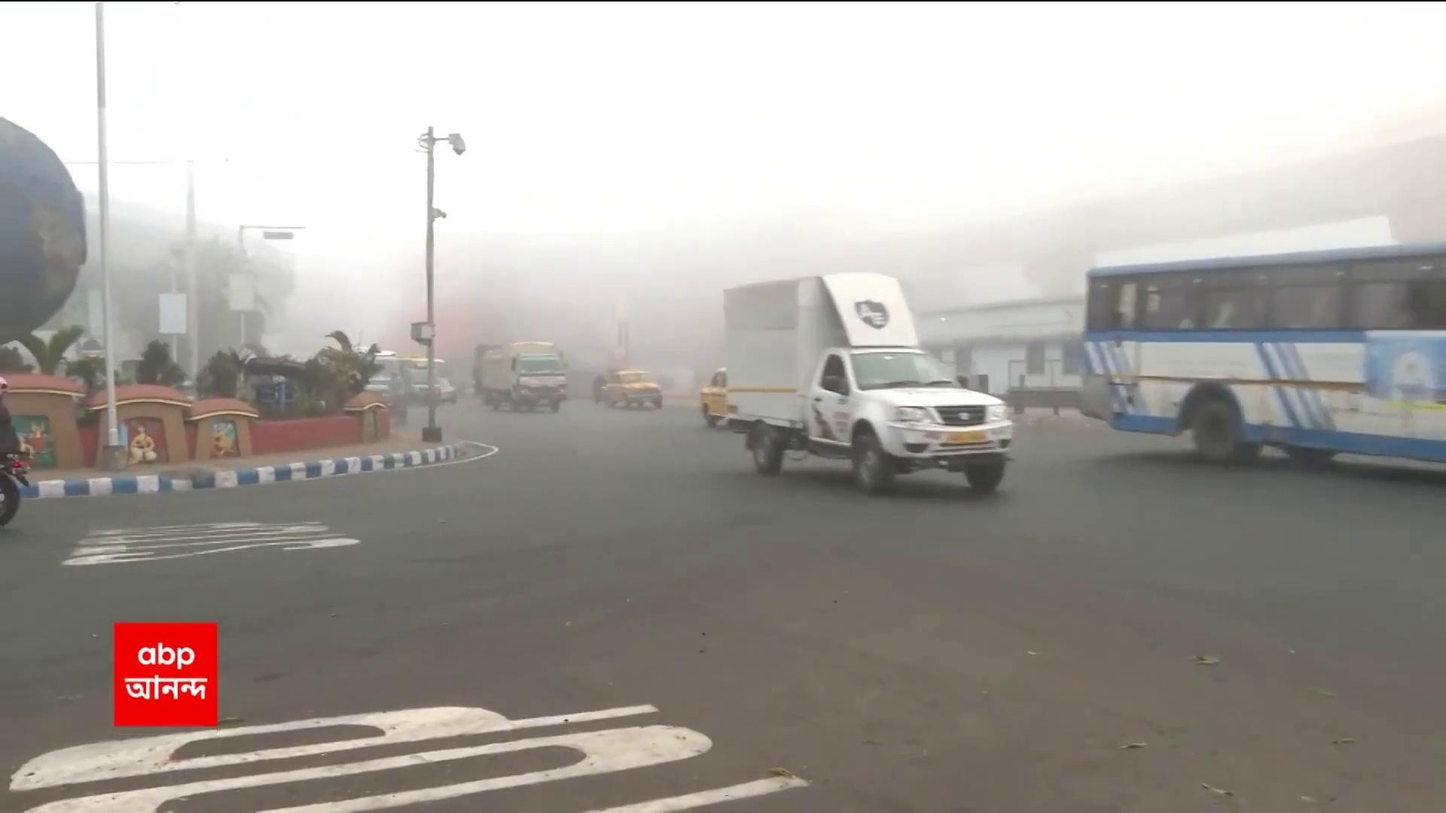Bus: (1075, 236, 1446, 463)
Car: (602, 368, 665, 410)
Truck: (720, 266, 1015, 495), (478, 340, 569, 412)
